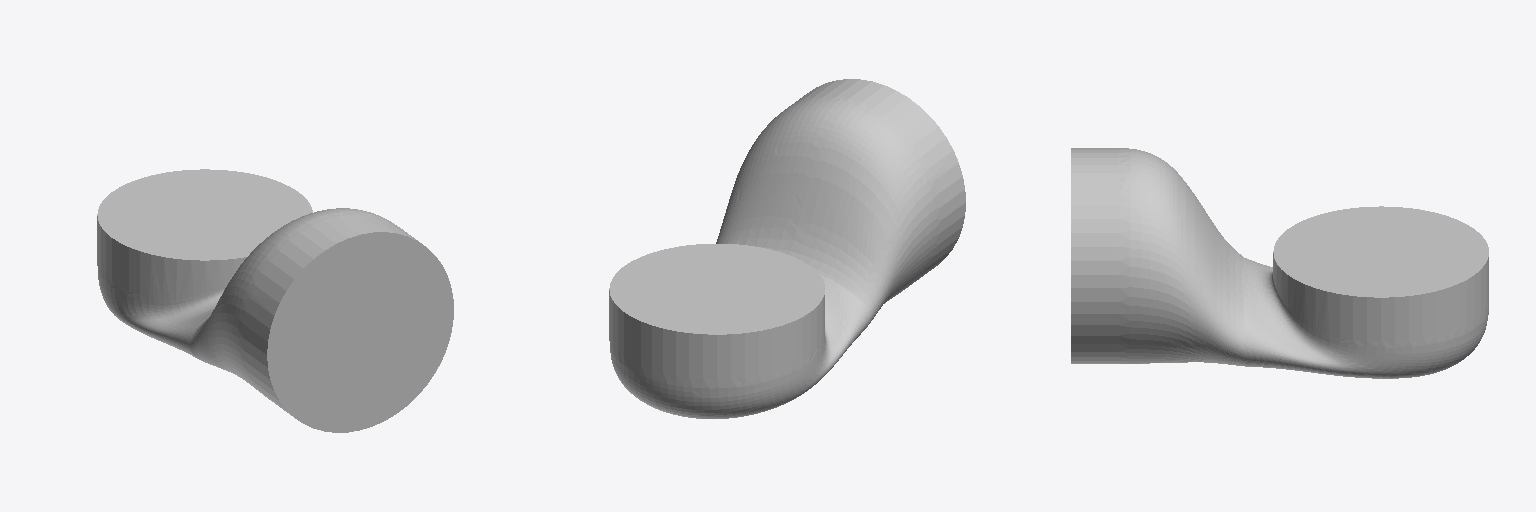
The model's file is shoulder.obj.
3 views of the same model, side by side, from view 1: azimuth 30°, elevation 25°; view 2: azimuth 150°, elevation 25°; view 3: azimuth 270°, elevation 25° (orthographic).
Size of the model in its own units: 0.0825 by 0.0826 by 0.1599.